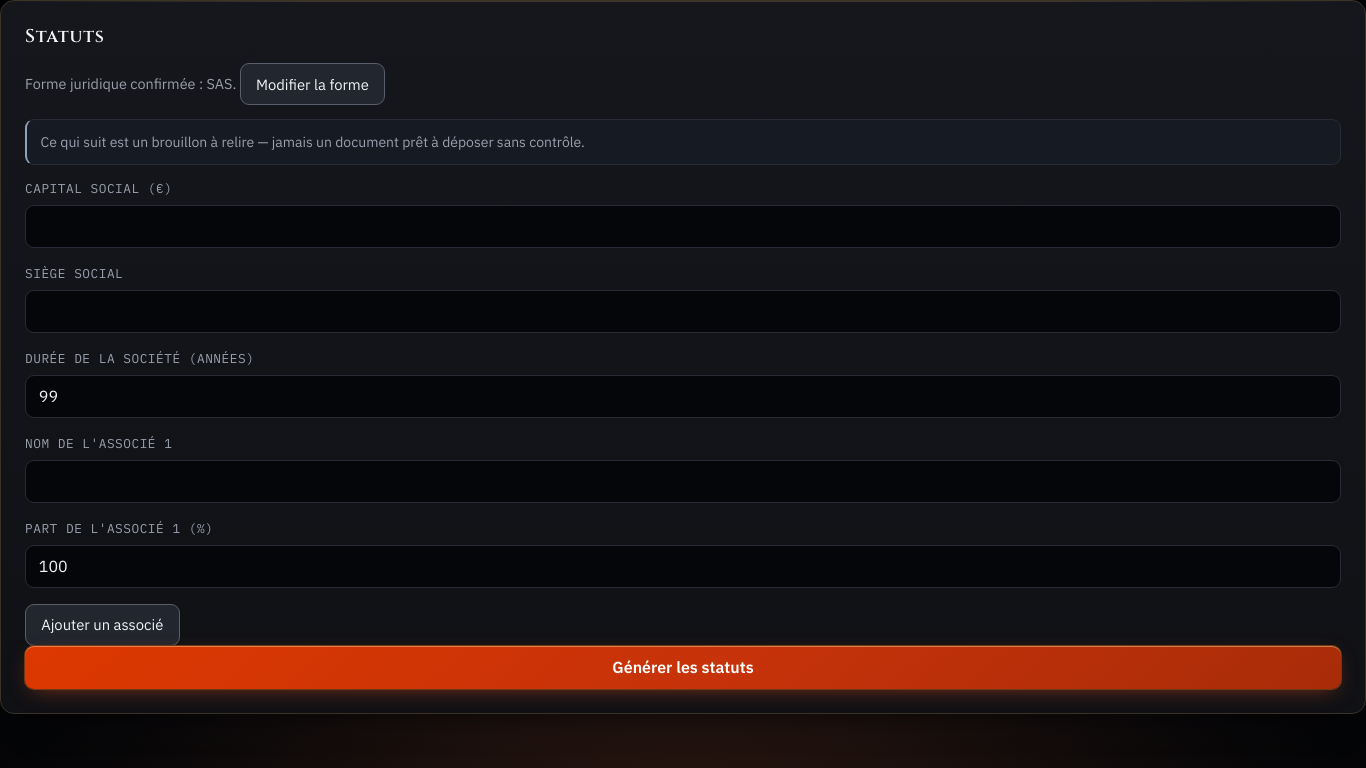
StatutsSection › signale une saisie de capital illisible sans appeler l'API
In the field labelled "Capital social (€)": coordinates (683, 226) [25, 205, 1341, 248], type "1 000,50"
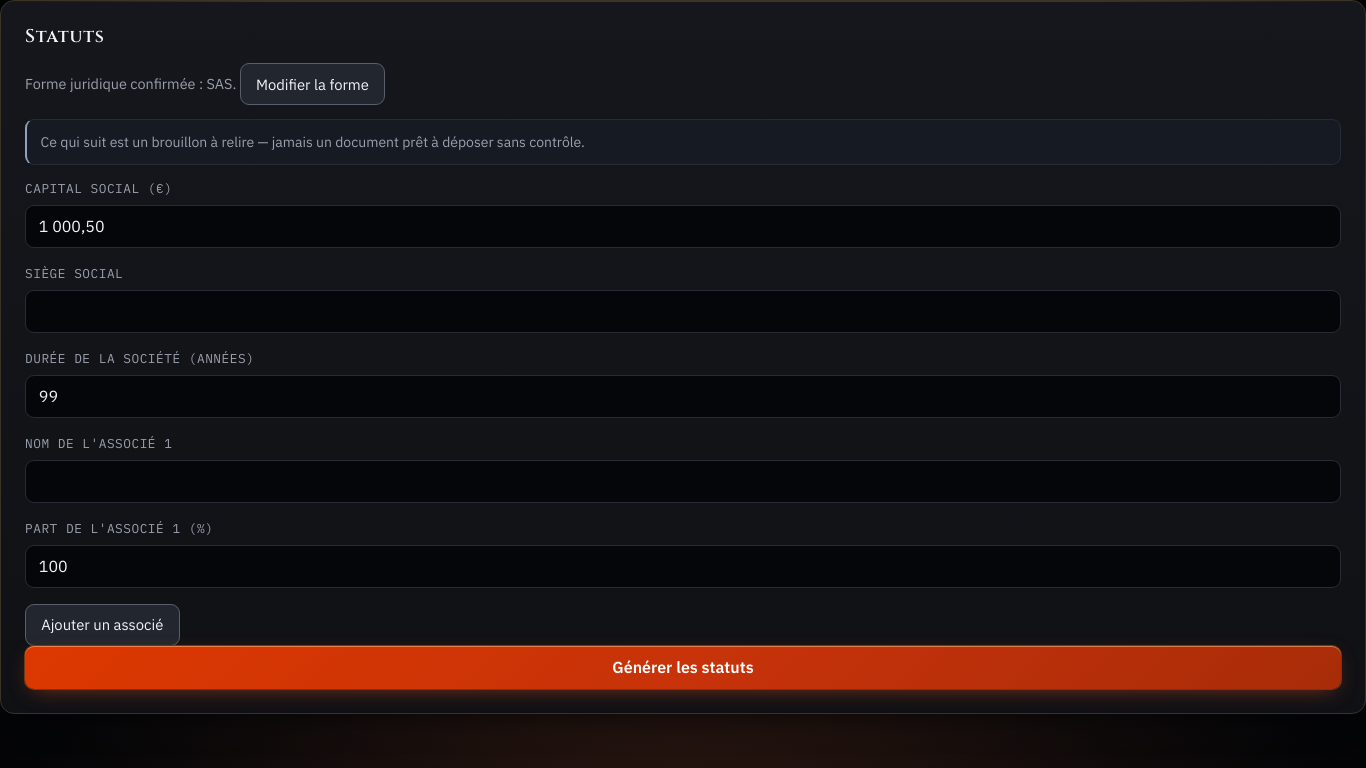
In the field labelled "Siège social": coordinates (683, 312) [25, 290, 1341, 333], type "1 rue de Paris"
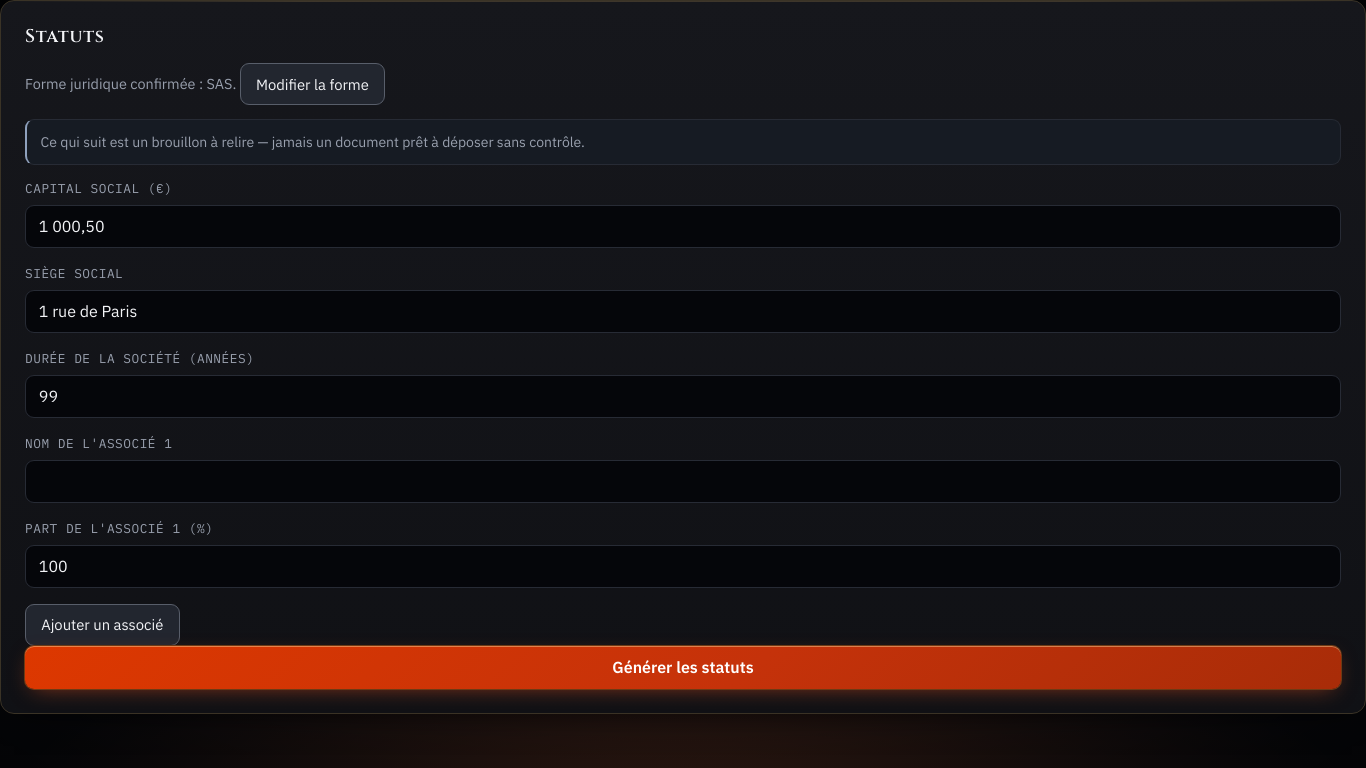
In the field labelled "Nom de l'associé 1": coordinates (683, 482) [25, 460, 1341, 503], type "Alice"
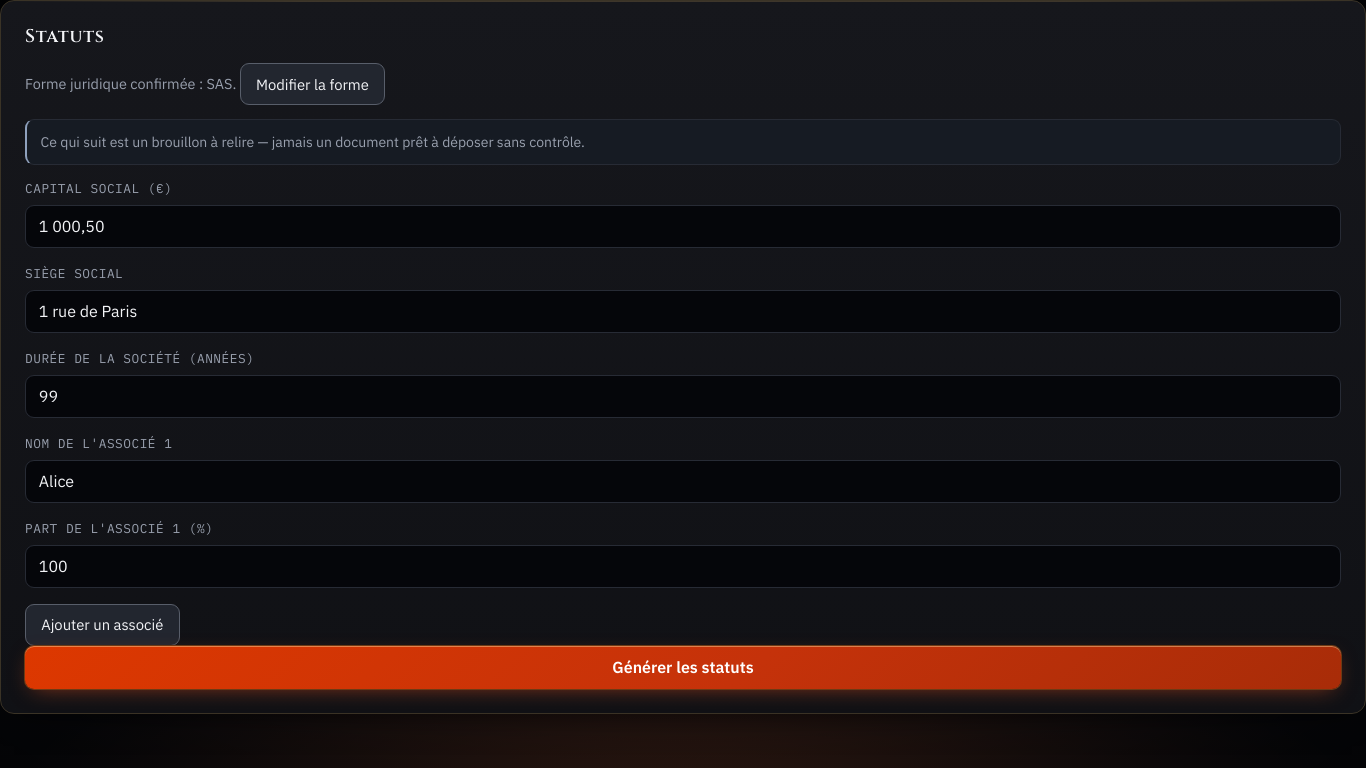
Replace the text in the field labelled "Capital social (€)" with "abc": coordinates (683, 226) [25, 205, 1341, 248]
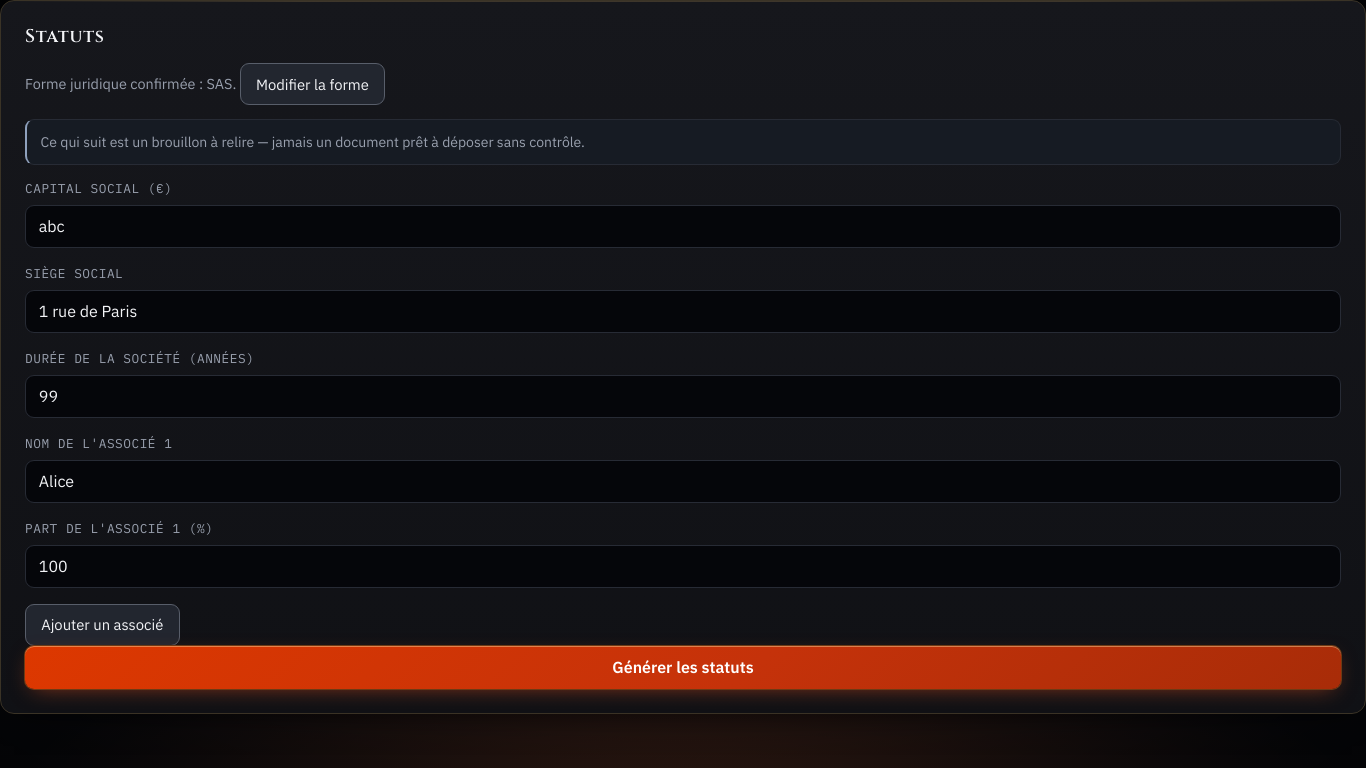
Click the button "Générer les statuts": coordinates (683, 667) [25, 646, 1341, 689]
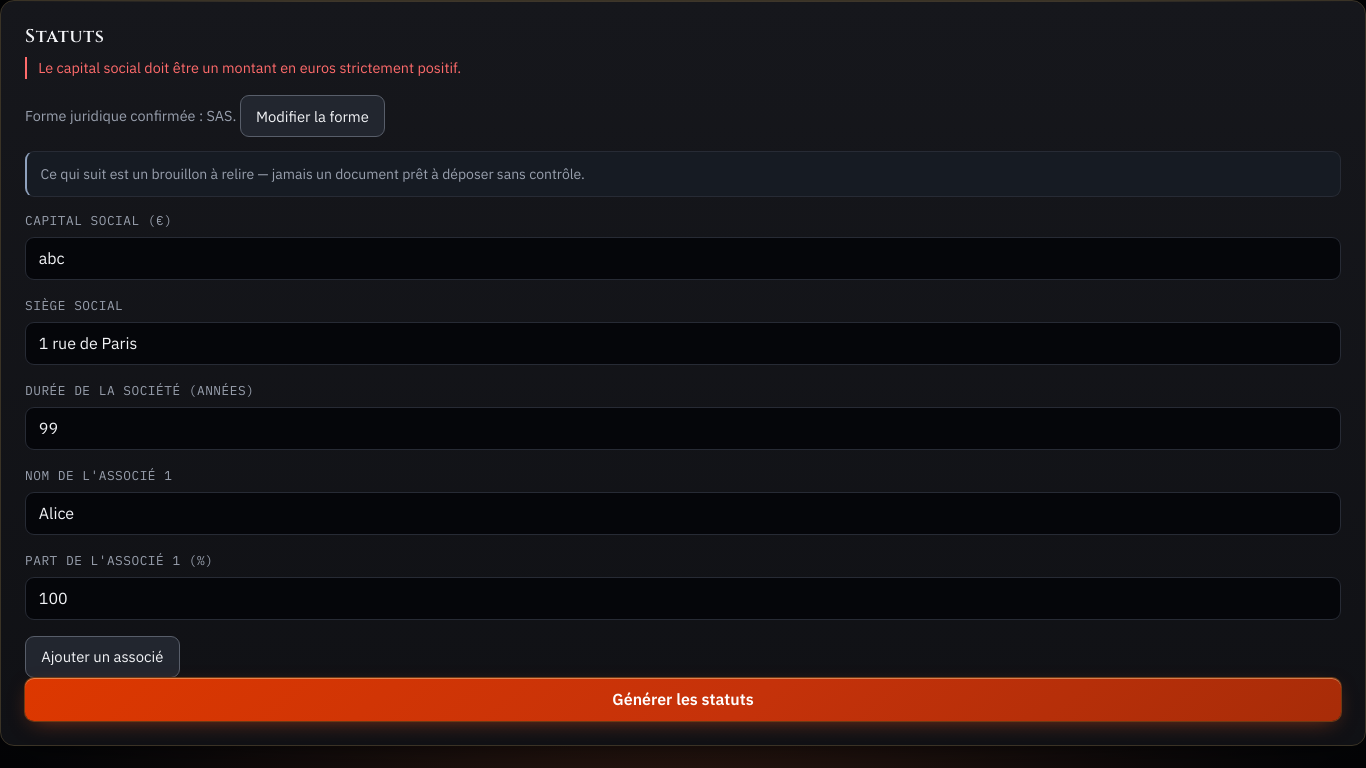
Check: the text "capital" is shown, box [38, 58, 461, 77]
